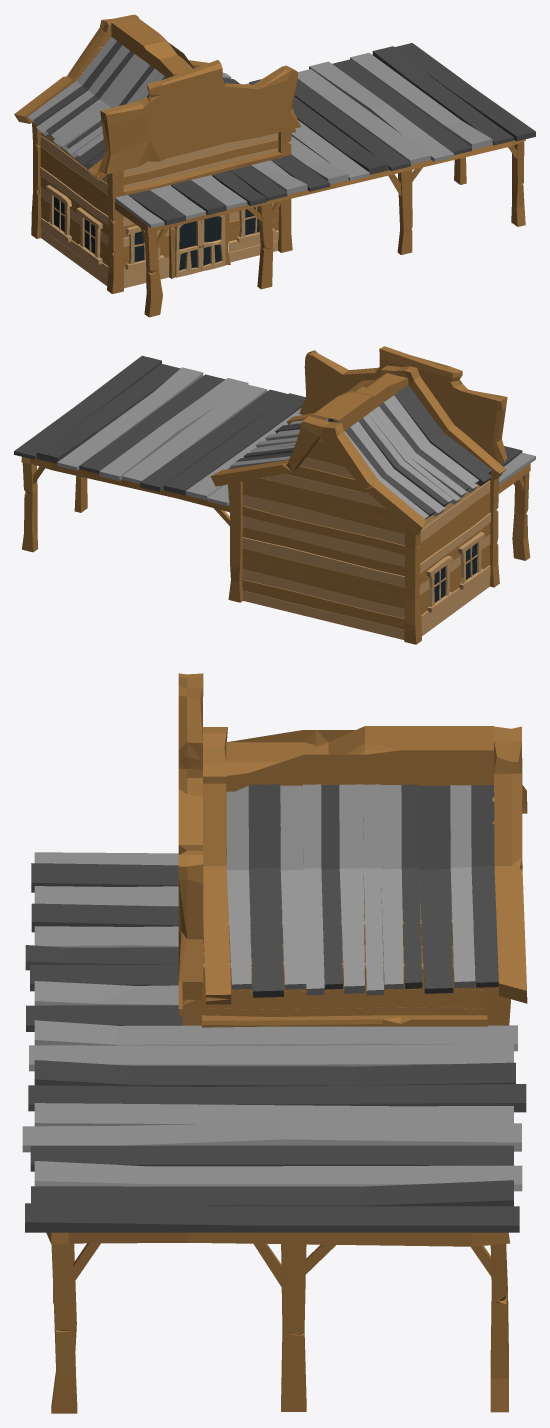
Rendered from Building_Station.fbx.
3 views of the same model, one above another, from view 1: azimuth 30°, elevation 25°; view 2: azimuth 150°, elevation 25°; view 3: azimuth 270°, elevation 25° (orthographic). The views are drawn at different scales.
Parts seen in each view (by area): view 1: Building_Station; view 2: Building_Station; view 3: Building_Station.
Part boxes in pixels (x1=…): Building_Station: x1=14, y1=14, x2=535, y2=317; Building_Station: x1=14, y1=346, x2=535, y2=644; Building_Station: x1=22, y1=673, x2=527, y2=1413.
Size of the model in its own units: 1444 by 794 by 707.
